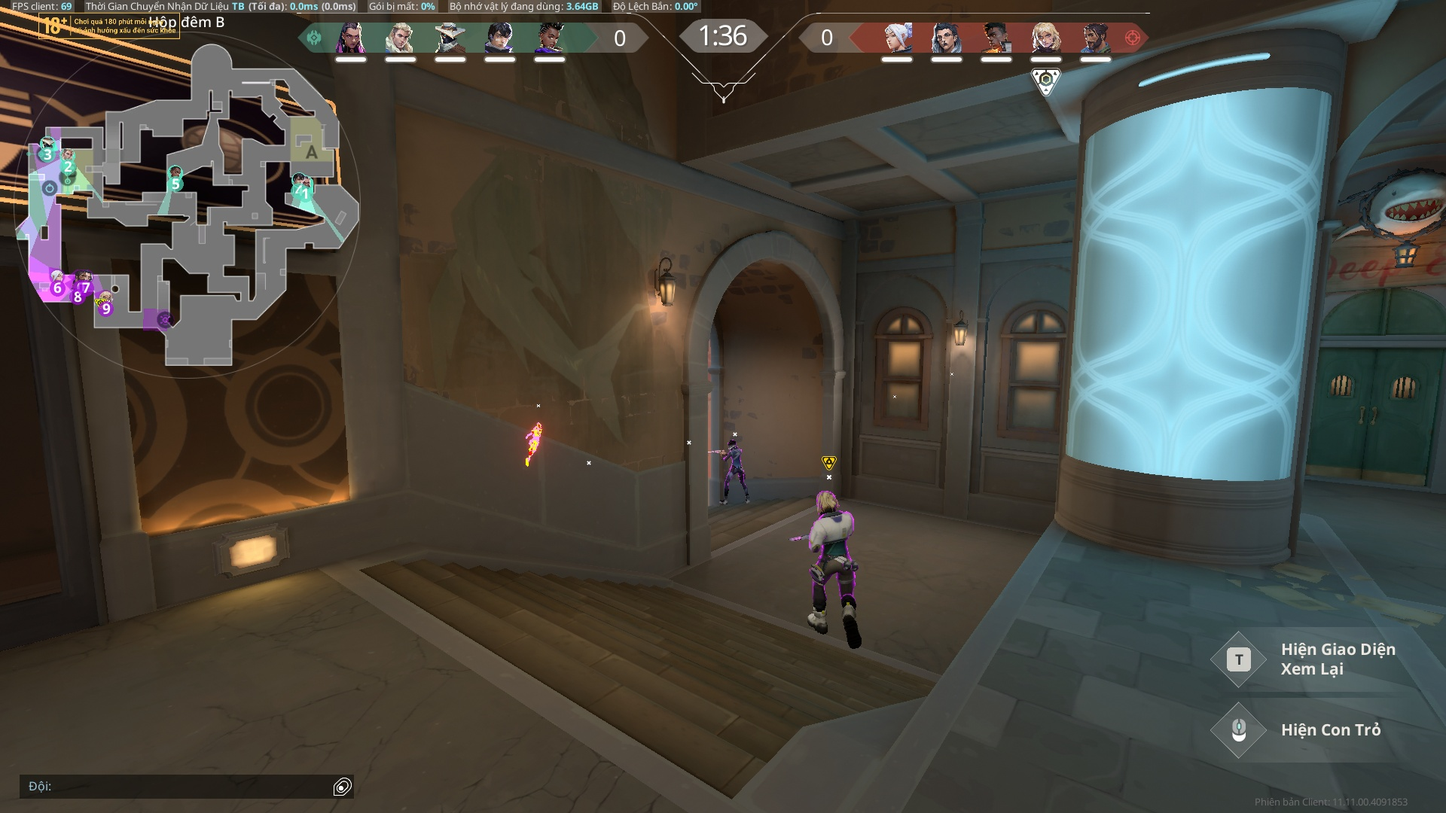body: (811, 512, 856, 555), (726, 447, 746, 470)
head: (814, 489, 837, 511), (727, 437, 739, 449)
